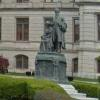Statue: (34, 4, 72, 60)
